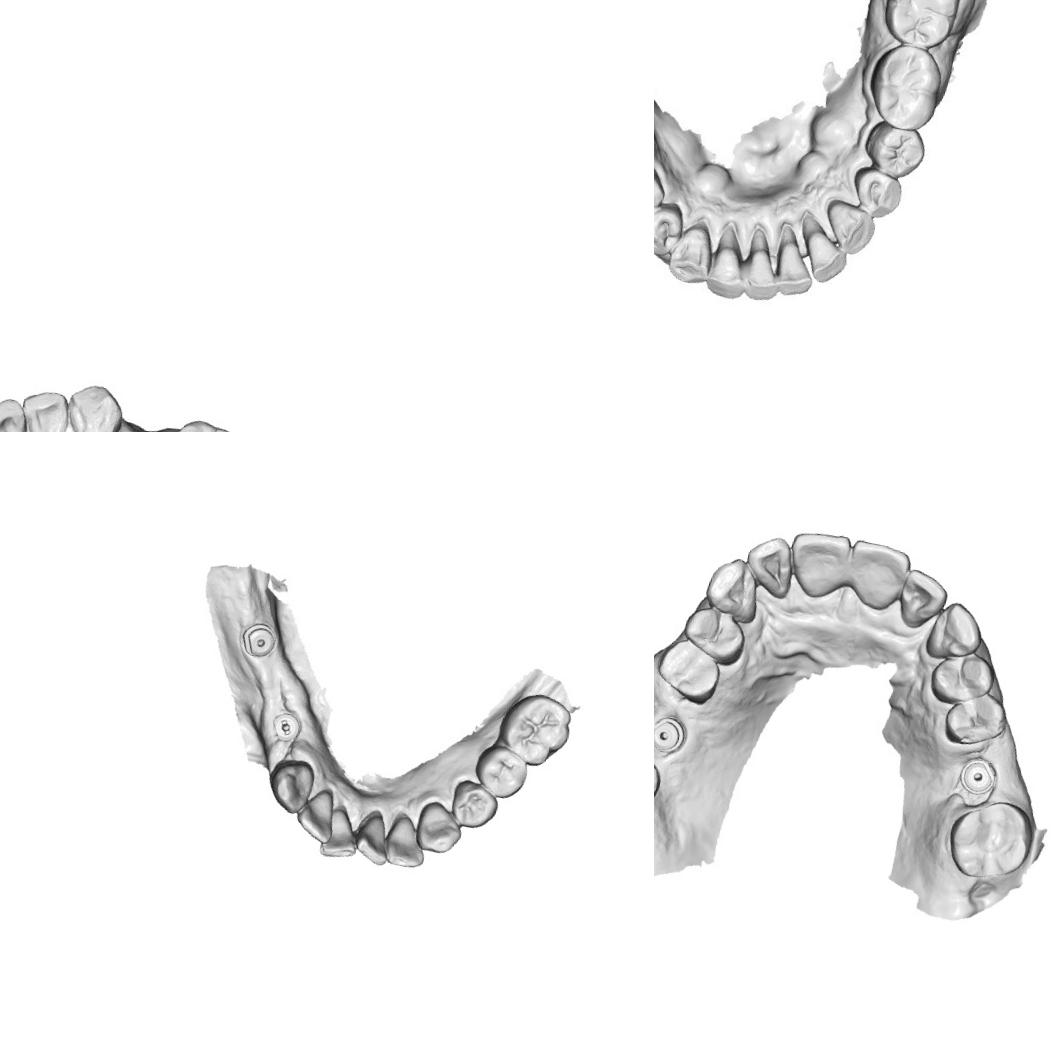canine: (700, 552, 766, 625), (922, 596, 988, 665), (58, 377, 129, 432), (821, 197, 879, 259), (411, 796, 468, 858), (262, 754, 318, 817), (670, 219, 714, 279)
implant: (956, 754, 999, 798), (236, 618, 280, 660), (654, 711, 688, 756)
implant_minus: (268, 709, 304, 745)
incisor: (781, 524, 855, 603), (841, 536, 914, 614), (703, 218, 760, 306), (740, 530, 799, 600), (894, 566, 951, 634), (739, 226, 790, 300), (792, 218, 850, 283), (768, 228, 820, 296), (379, 811, 432, 871), (291, 782, 340, 845), (12, 383, 74, 432), (316, 805, 362, 862), (350, 810, 396, 866), (0, 390, 34, 432)
molar: (941, 792, 1038, 886), (867, 37, 952, 132), (492, 687, 576, 772), (880, 0, 962, 44), (162, 412, 256, 432)
premolar: (654, 633, 725, 707), (939, 684, 1011, 752), (926, 644, 998, 712), (678, 602, 750, 669), (469, 740, 532, 803), (867, 116, 924, 178), (446, 776, 502, 832), (848, 164, 902, 215), (654, 202, 686, 259)
